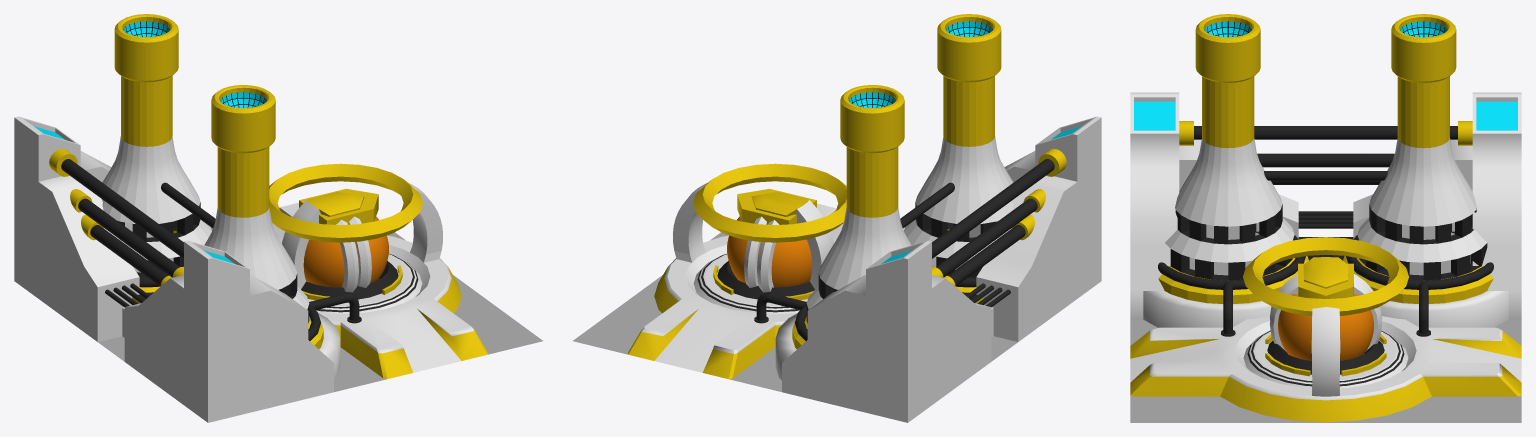
The model's file is SM_Land_Powerstation.fbx.
3 renders of one model, left to right at view 1: azimuth 30°, elevation 25°; view 2: azimuth 150°, elevation 25°; view 3: azimuth 270°, elevation 25°, orthographic.
Parts seen in each view (by area): view 1: SM_Land_Powerstation; view 2: SM_Land_Powerstation; view 3: SM_Land_Powerstation.
Boxes of the visible parts, <box> form: SM_Land_Powerstation: <box>14,14,542,422</box>; SM_Land_Powerstation: <box>573,14,1101,422</box>; SM_Land_Powerstation: <box>1130,14,1521,422</box>.
Size of the model in its own units: 800 by 631 by 800.
